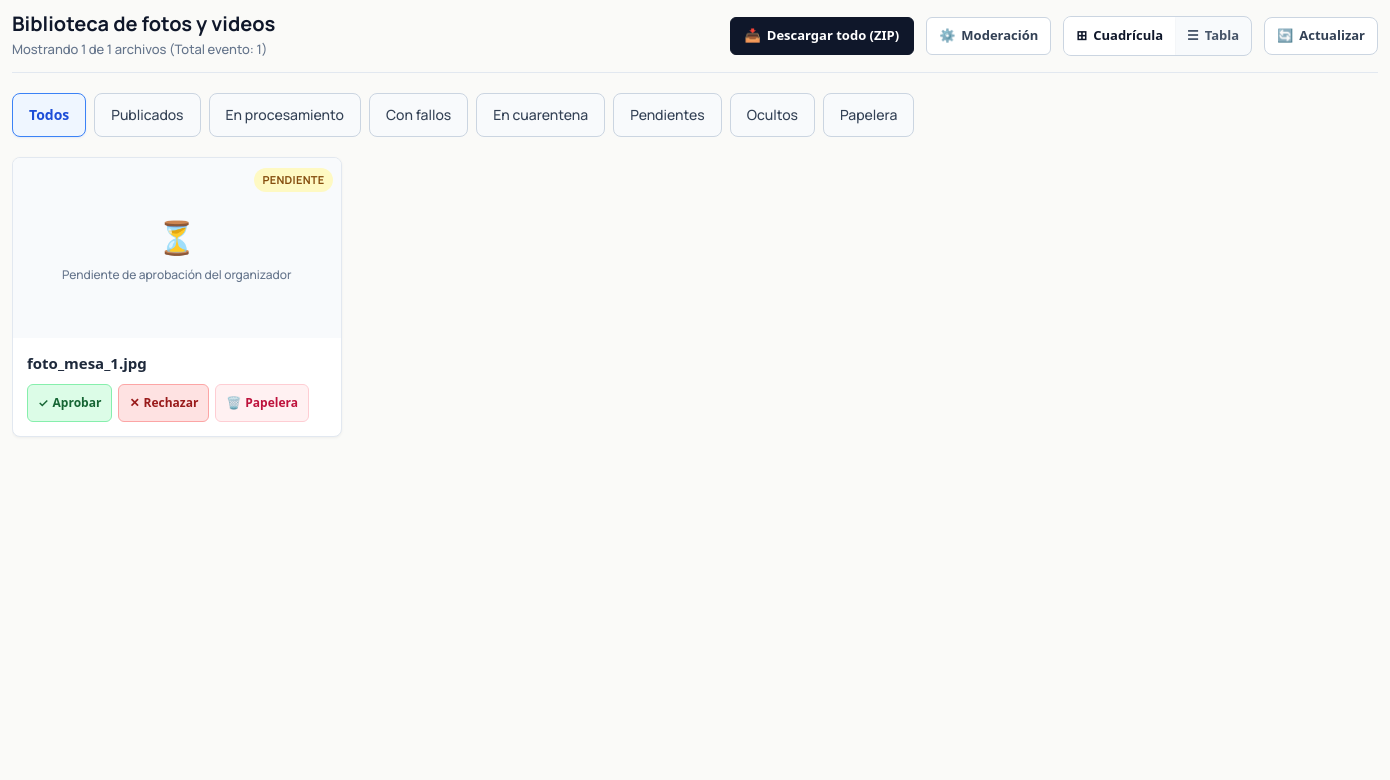
Test case: OrganizerMediaLibraryComponent & Media Integration (EL-TK-100) › EL-TK-111 Moderation and Trash Integration › Escenario 1: Ejecuta aprobación directa para media en PENDING_REVIEW con feedback accesible
Click the button with class "btn-approve" at (70, 403), box left=27, top=384, right=112, bottom=422
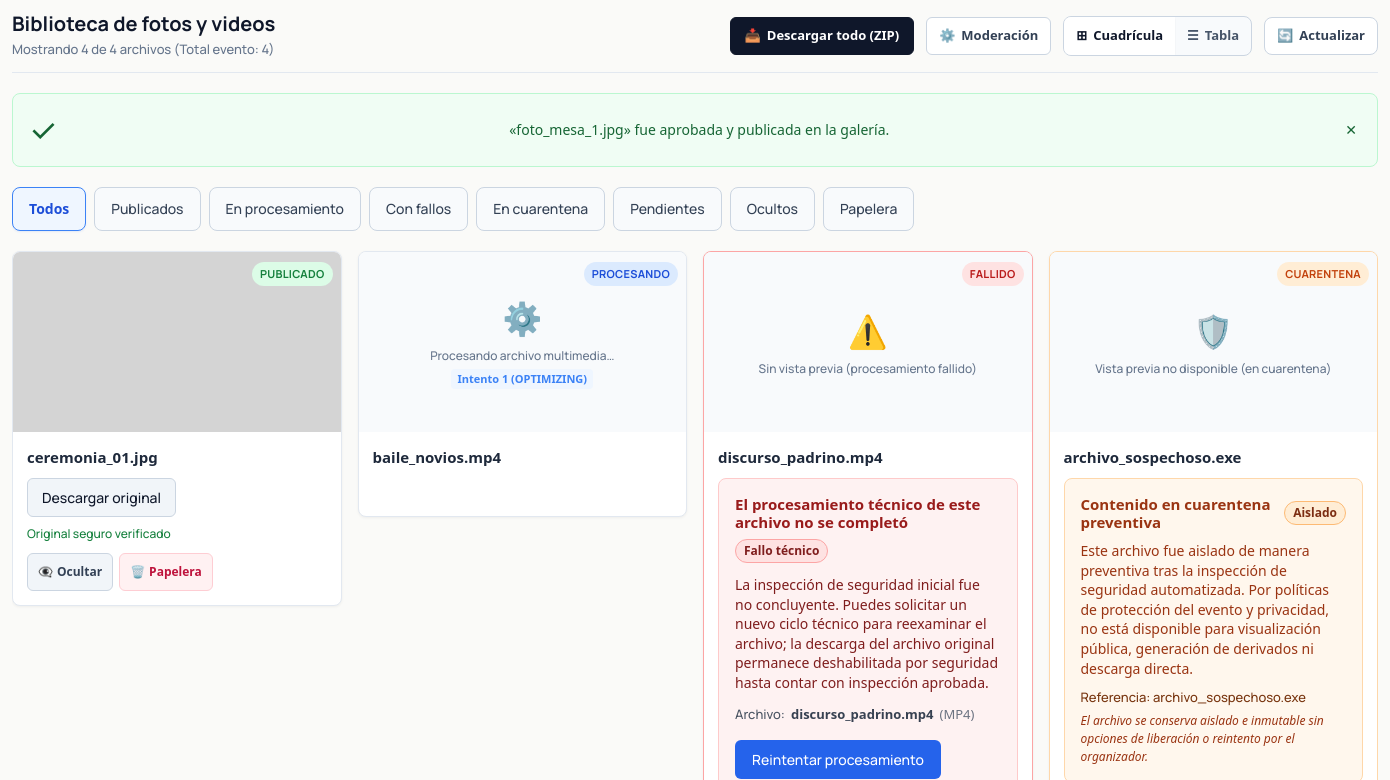
Check: the message "✓ «foto_mesa_1.jpg» fue aprobada y publicada en la galería. ✕" is shown, box left=12, top=92, right=1378, bottom=166
Check: the message with class "alert-success" shows "«foto_mesa_1.jpg» fue aprobada y publicada en la galería.", box left=509, top=120, right=889, bottom=139
